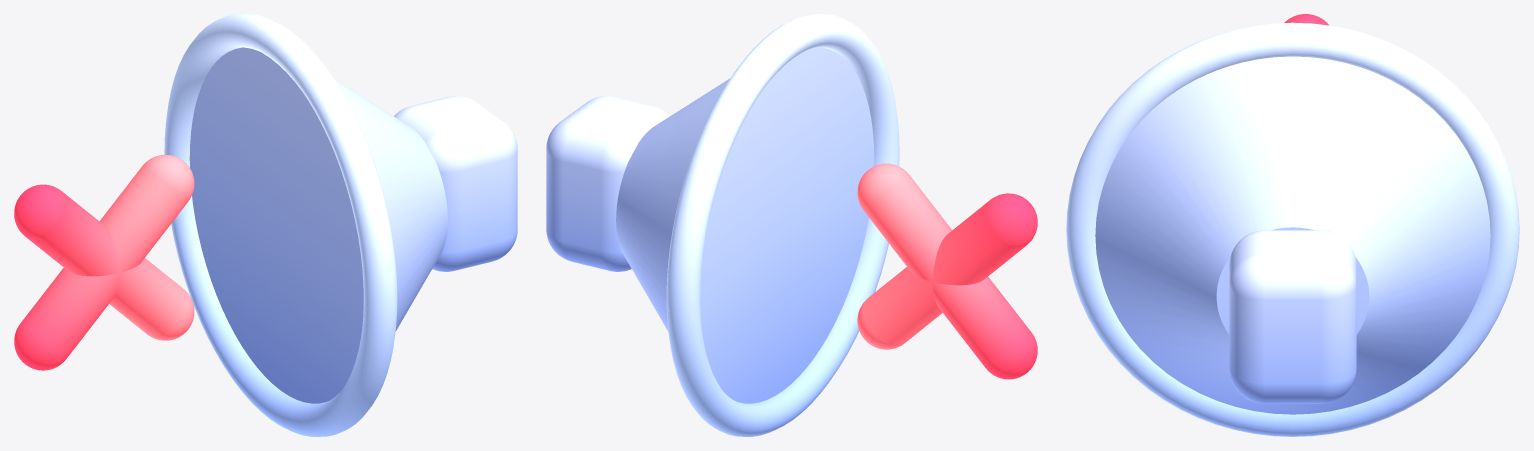
The model's file is muted.glb.
The picture shows the model from 3 angles, left to right: view 1: azimuth 30°, elevation 25°; view 2: azimuth 150°, elevation 25°; view 3: azimuth 270°, elevation 25°; orthographic projection. The views are drawn at different scales.
Visible parts, largest first — view 1: speaker_cone, speaker_rim, x, speaker_body; view 2: speaker_cone, speaker_rim, x, speaker_body; view 3: speaker_cone, speaker_rim, speaker_body.
Part boxes in pixels (x1,y1,x2,y2): speaker_cone: (189,47,447,403); speaker_rim: (164,14,397,436); x: (14,154,194,370); speaker_body: (394,96,517,271); speaker_cone: (616,47,874,403); speaker_rim: (666,14,899,436); x: (857,163,1037,379); speaker_body: (546,96,669,271); speaker_cone: (1095,56,1490,414); speaker_rim: (1066,22,1519,436); speaker_body: (1229,230,1356,403).
Bounding box in the file's own units: 0.0832 × 0.0655 × 0.0655.
